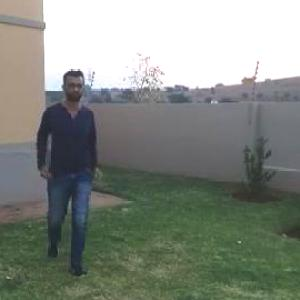follow: (38, 68, 101, 252)
